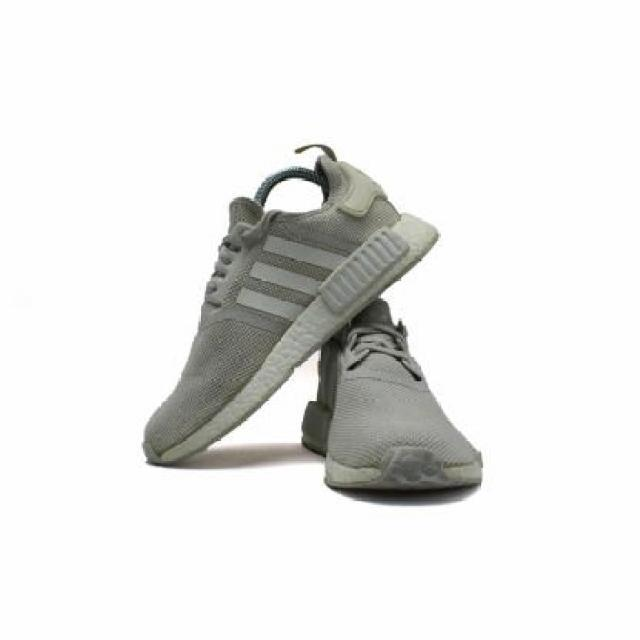Adidas: (238, 227, 352, 332)
